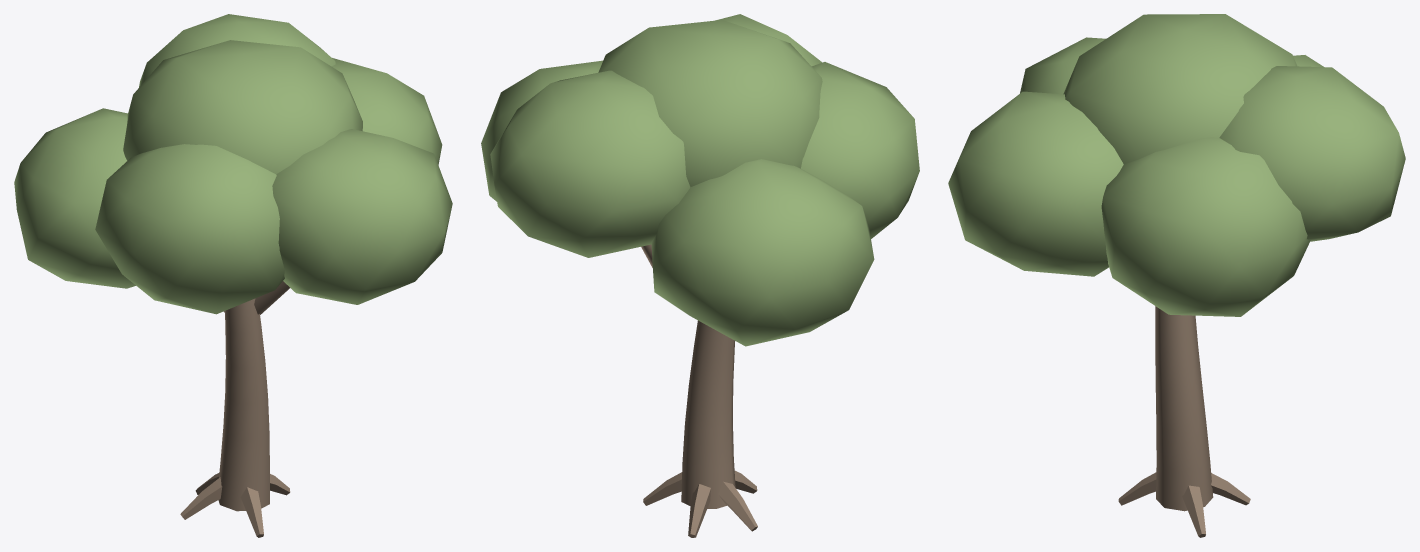
File: tree_oak.glb
3 views of the same model, side by side, from view 1: azimuth 30°, elevation 25°; view 2: azimuth 150°, elevation 25°; view 3: azimuth 270°, elevation 25° (orthographic). The views are drawn at different scales.
Visible parts, largest first — view 1: tree_oak; view 2: tree_oak; view 3: tree_oak.
Boxes of the visible parts, x1,y1,x2,y2 form: tree_oak: (14, 14, 452, 537); tree_oak: (481, 14, 919, 537); tree_oak: (948, 14, 1405, 537).
Size of the model in its own units: 7.6 by 8.91 by 7.68.
